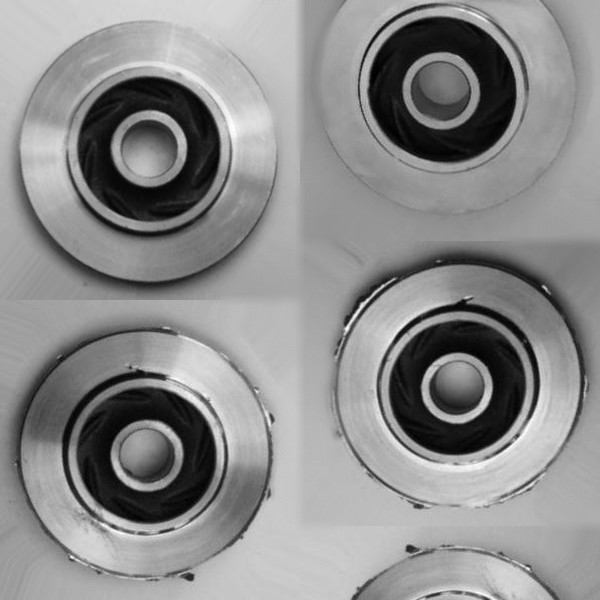pump_impeller: (3, 15, 290, 294), (304, 248, 599, 515), (12, 331, 287, 594), (303, 1, 591, 233)
